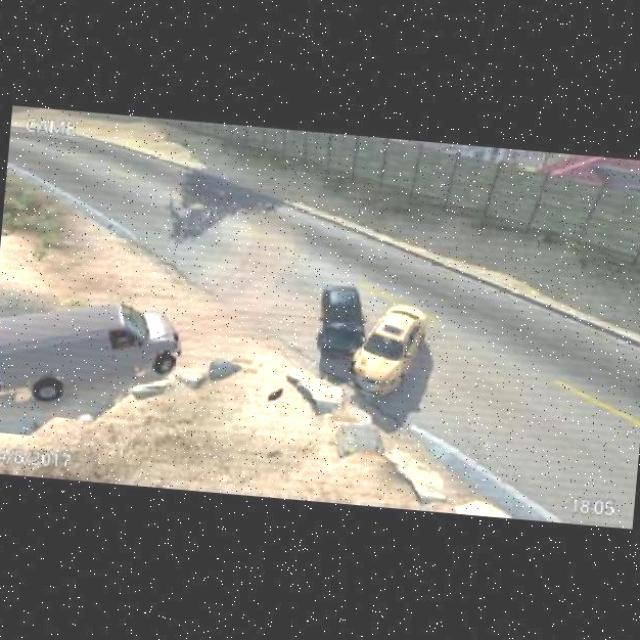accident: (301, 280, 431, 408)
